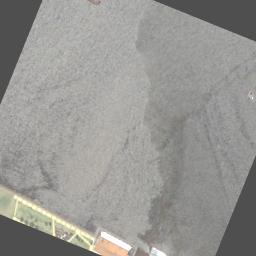boat: (148, 245, 169, 256), (77, 0, 102, 5), (245, 91, 256, 101)
